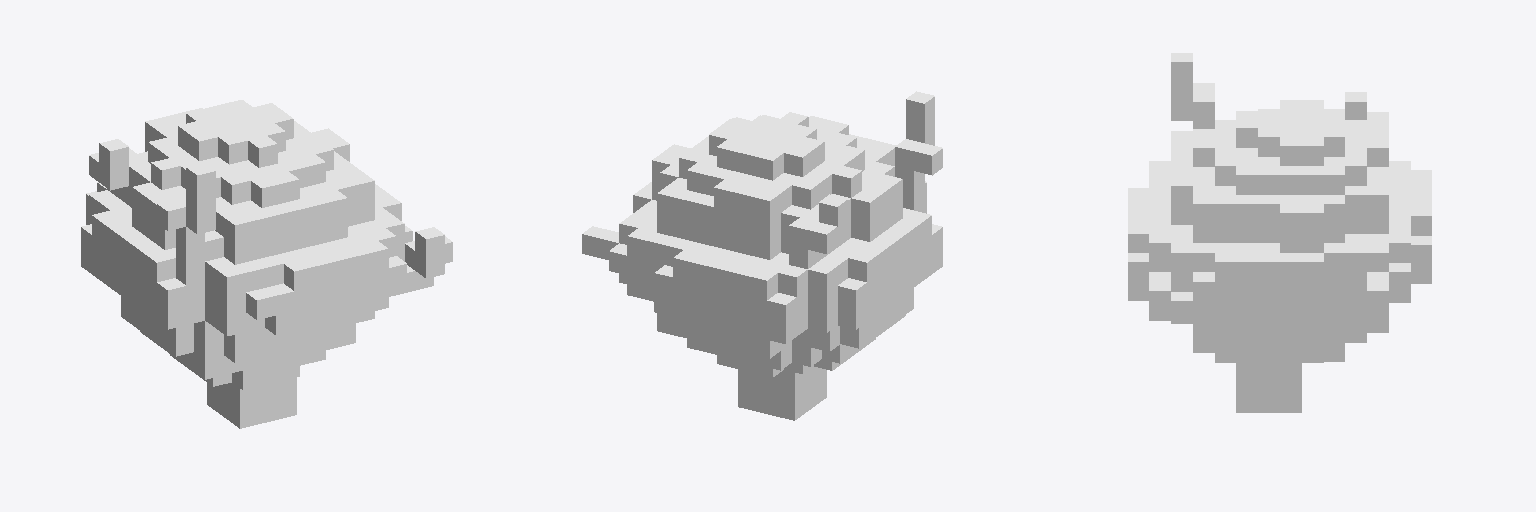
File: chicken-13.obj
3 renders of one model, left to right at view 1: azimuth 30°, elevation 25°; view 2: azimuth 150°, elevation 25°; view 3: azimuth 270°, elevation 25°, orthographic.
Visible parts, largest first — view 1: object 1; view 2: object 1; view 3: object 1.
Part boxes in pixels (bbox=[...]): object 1: bbox=[81, 100, 452, 428]; object 1: bbox=[582, 91, 942, 420]; object 1: bbox=[1128, 53, 1431, 412].
Size of the model in its own units: 1.4 by 1.5 by 1.4.